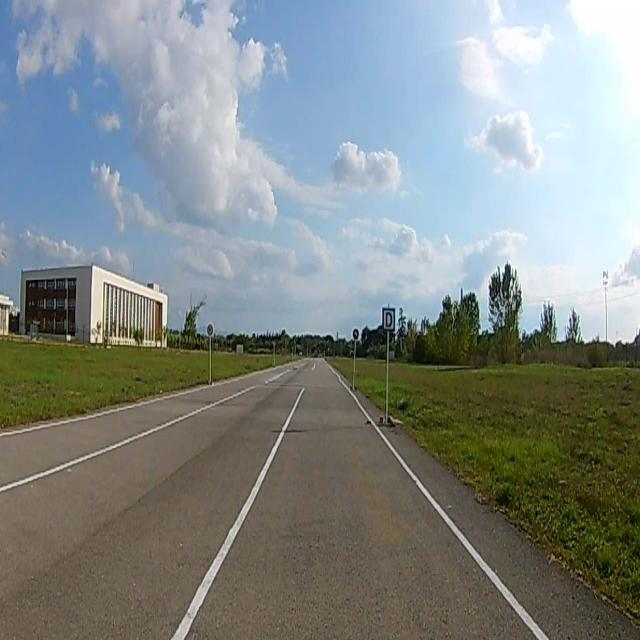durak: (382, 308, 395, 332)
